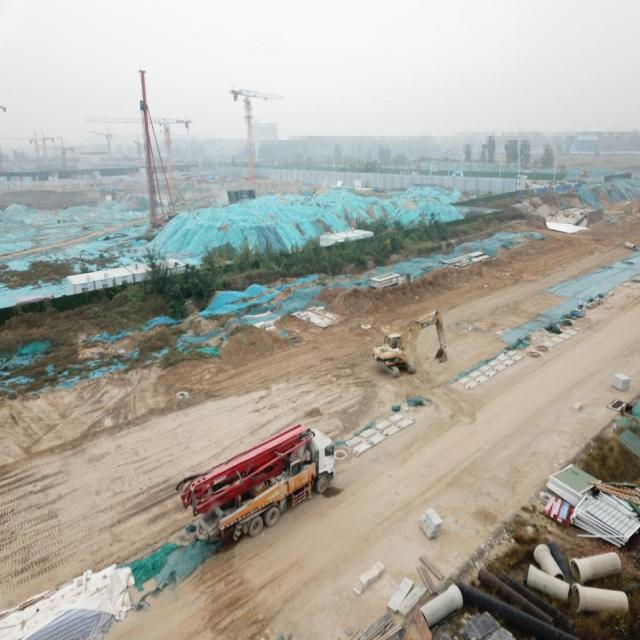crane: (172, 407, 342, 556), (81, 109, 195, 210), (223, 81, 289, 206)
excavator: (368, 306, 455, 380)
